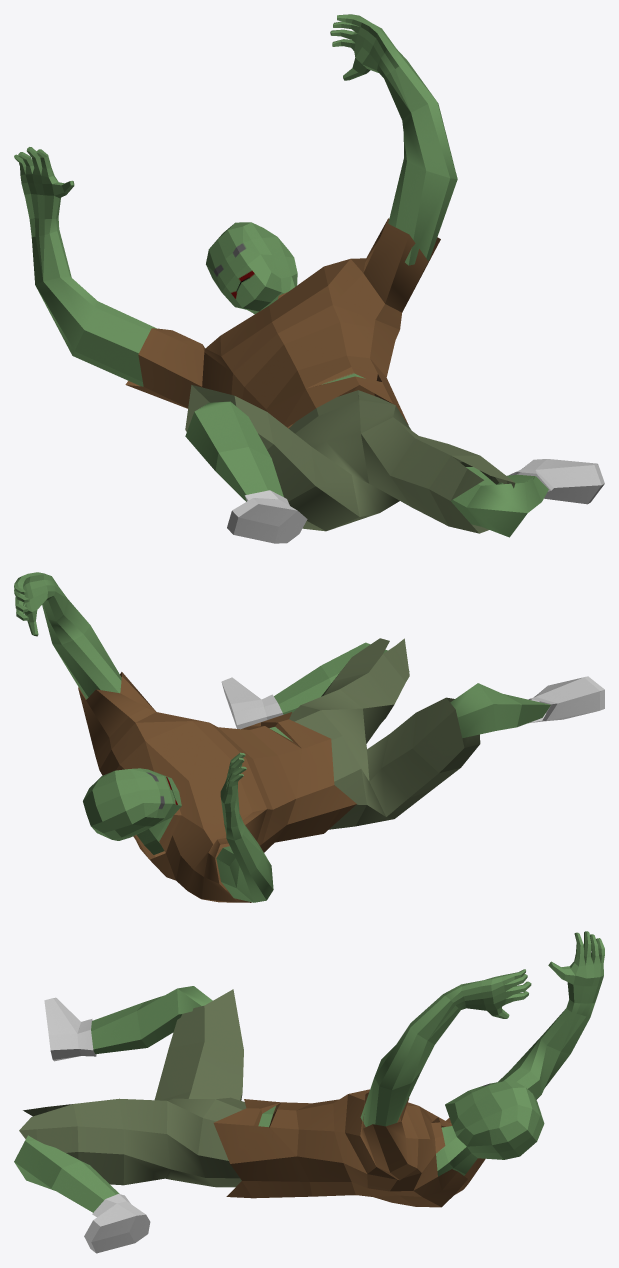
Rendered from ZombieDead(53).obj.
3 views of the same model, one above another, from view 1: azimuth 30°, elevation 25°; view 2: azimuth 150°, elevation 25°; view 3: azimuth 270°, elevation 25° (orthographic). The views are drawn at different scales.
Parts seen in each view (by area): view 1: Object001; view 2: Object001; view 3: Object001.
Boxes of the visible parts, <box> form: Object001: <box>14,14,604,543</box>; Object001: <box>14,572,604,902</box>; Object001: <box>14,931,604,1253</box>.
Bounding box in the file's own units: 36.6 × 28.08 × 50.91.
